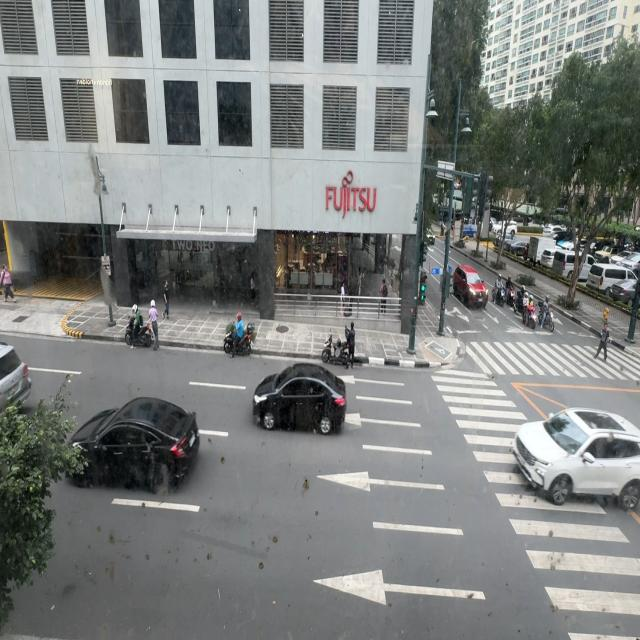crossing: (593, 323, 609, 362)
pedestrain: (0, 264, 17, 304), (162, 280, 170, 320)
